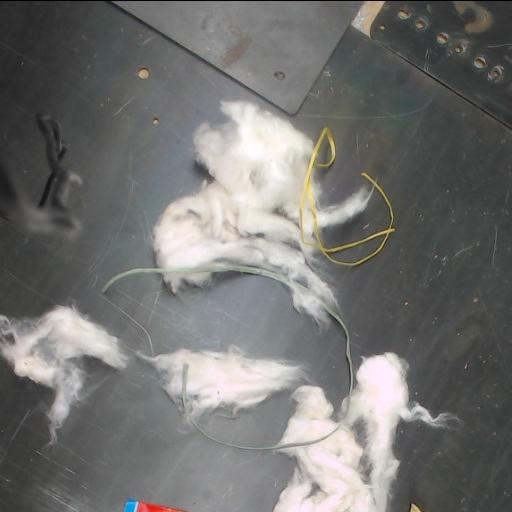conveyor belt: (0, 1, 346, 406), (288, 27, 511, 512), (0, 358, 292, 512)
cotton: (153, 101, 336, 323), (273, 354, 451, 512), (0, 306, 128, 441), (137, 346, 303, 423)
packet: (124, 500, 187, 512)
thread: (299, 127, 395, 266), (102, 264, 284, 291), (192, 422, 341, 450), (328, 308, 354, 397)
